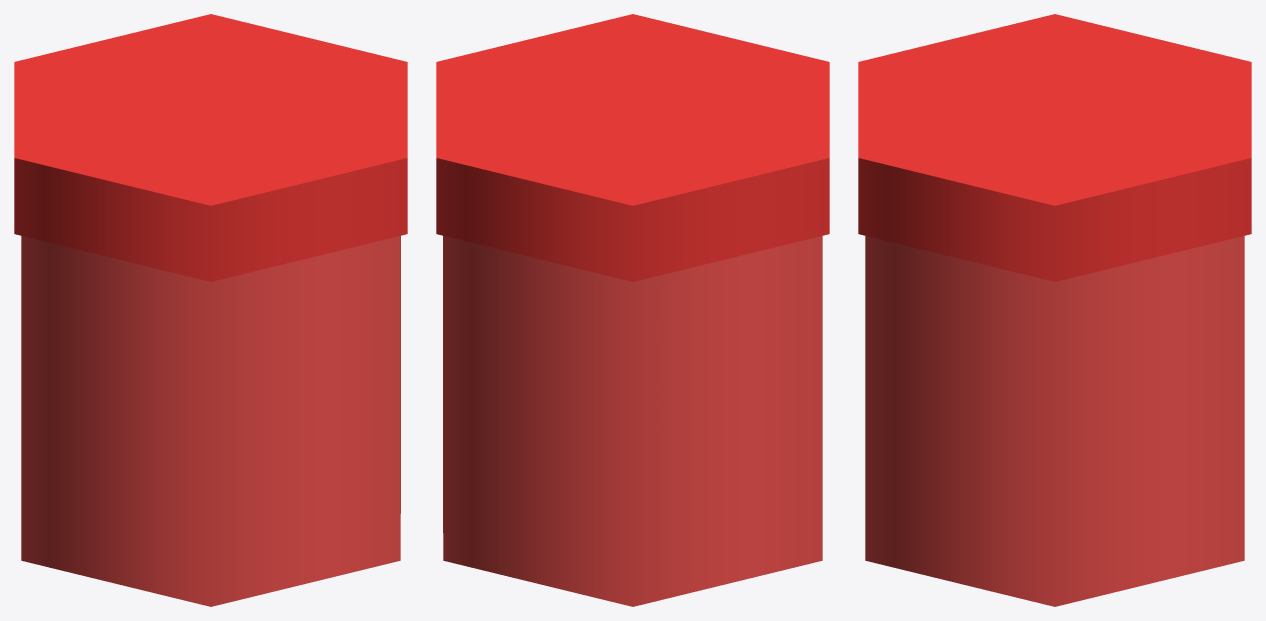
The model's file is prop_075.glb.
3 views of the same model, side by side, from view 1: azimuth 30°, elevation 25°; view 2: azimuth 150°, elevation 25°; view 3: azimuth 270°, elevation 25° (orthographic).
Parts seen in each view (by area): view 1: prop_075; view 2: prop_075; view 3: prop_075.
Part boxes in pixels (<box>): prop_075: <box>14,14,407,606</box>; prop_075: <box>436,14,829,606</box>; prop_075: <box>858,14,1251,606</box>.
Bounding box in the file's own units: 0.1026 × 0.1008 × 0.0889.
1 material, 1 textured.
